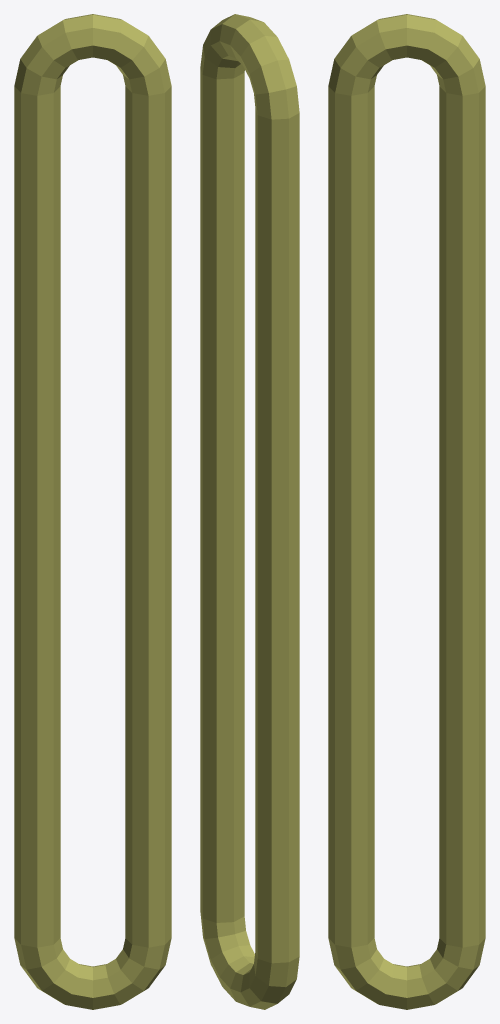
File: string3.fbx
The picture shows the model from 3 angles, left to right: view 1: azimuth 90°, elevation 25°; view 2: azimuth 210°, elevation 25°; view 3: azimuth 270°, elevation 25°; orthographic projection.
Parts seen in each view (by area): view 1: string1_1; view 2: string1_1; view 3: string1_1.
Boxes of the visible parts, box(x1,y1,x2,y2) form: string1_1: box(14, 14, 171, 1009); string1_1: box(200, 14, 299, 1009); string1_1: box(328, 14, 485, 1009).
Bounding box in the file's own units: 10 × 237 × 34.
